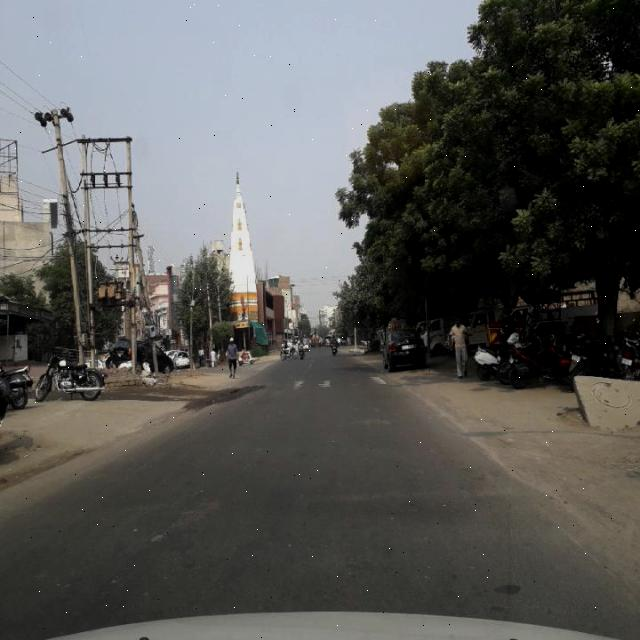D43: (280, 372, 392, 398)
